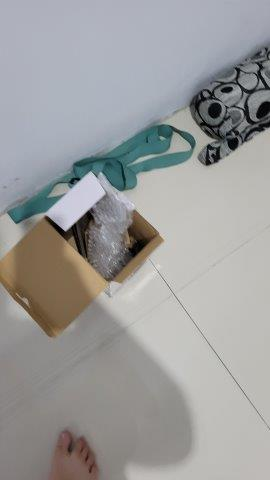kardus: (1, 171, 166, 339)
